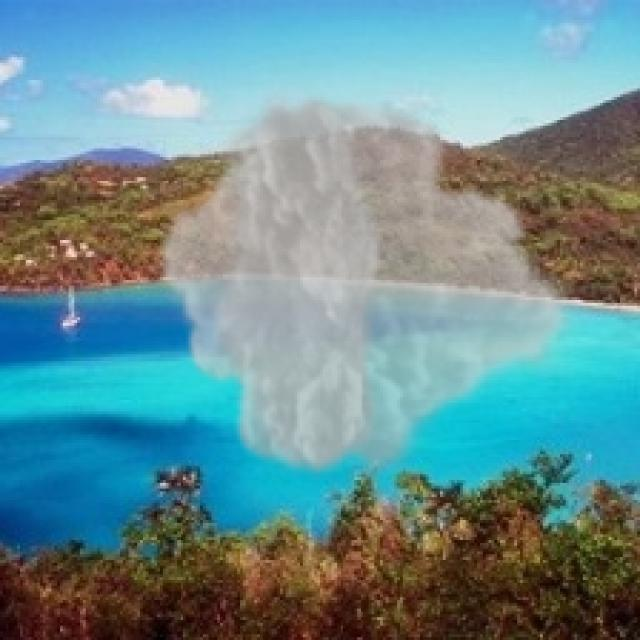Smoke: (154, 86, 577, 486)
